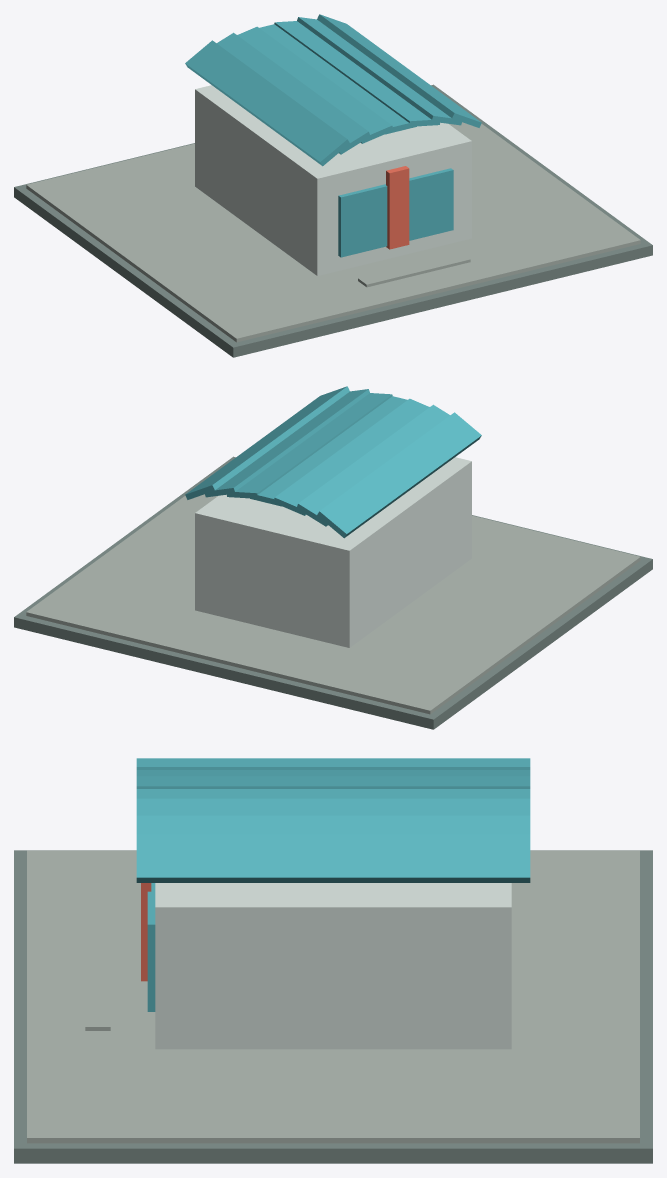
The model's file is metro_station_lv1.glb.
The picture shows the model from 3 angles, top to bottom: view 1: azimuth 30°, elevation 25°; view 2: azimuth 150°, elevation 25°; view 3: azimuth 270°, elevation 25°; orthographic projection. The views are drawn at different scales.
Visible parts, largest first — view 1: concrete, glass, white, pavement, coral; view 2: concrete, white, glass, pavement; view 3: concrete, white, glass, pavement, coral.
Boxes of the visible parts, x1,y1,x2,y2 form: concrete: (26, 122, 640, 342); glass: (185, 14, 481, 257); white: (195, 85, 471, 275); pavement: (14, 84, 652, 357); coral: (386, 166, 409, 249); concrete: (26, 494, 640, 714); white: (195, 457, 471, 647); glass: (185, 386, 481, 538); pavement: (14, 456, 652, 729); concrete: (27, 850, 639, 1143); white: (155, 883, 511, 1049); glass: (136, 758, 530, 1011); pavement: (14, 850, 652, 1163); coral: (141, 883, 151, 981).
Bounding box in the file's own units: 9.5 × 3.3 × 8.6.
